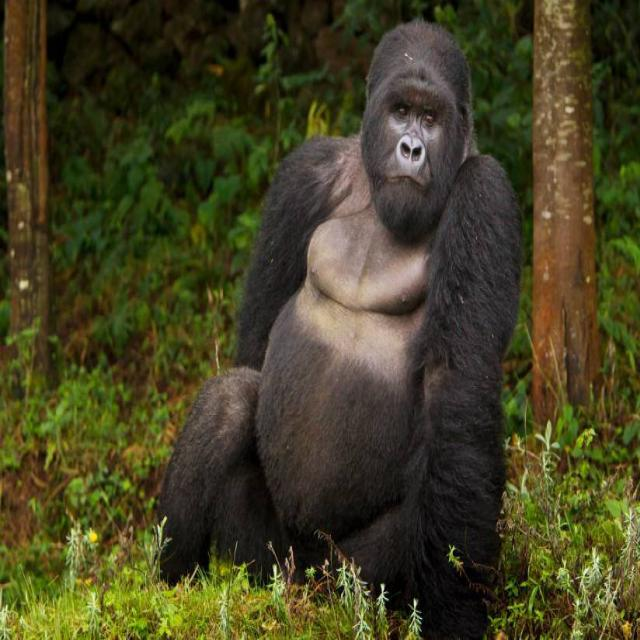Gorilla: (159, 19, 522, 629)
